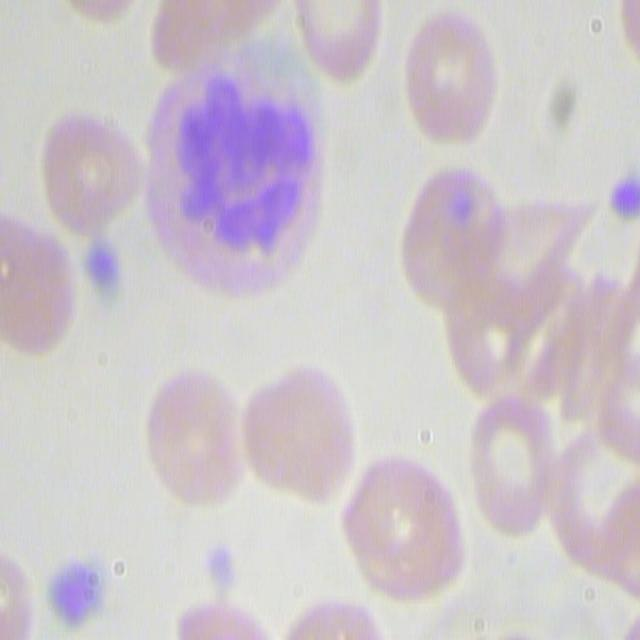RBC: (228, 360, 362, 512), (341, 459, 468, 612), (398, 161, 512, 312), (141, 360, 247, 512), (539, 186, 639, 333), (398, 5, 500, 146), (466, 389, 561, 540), (40, 103, 143, 241), (0, 207, 74, 363), (438, 286, 532, 403), (291, 0, 391, 84)
WBC: (134, 53, 334, 294)
platelets: (40, 546, 115, 639), (79, 227, 131, 321), (199, 538, 243, 602)
